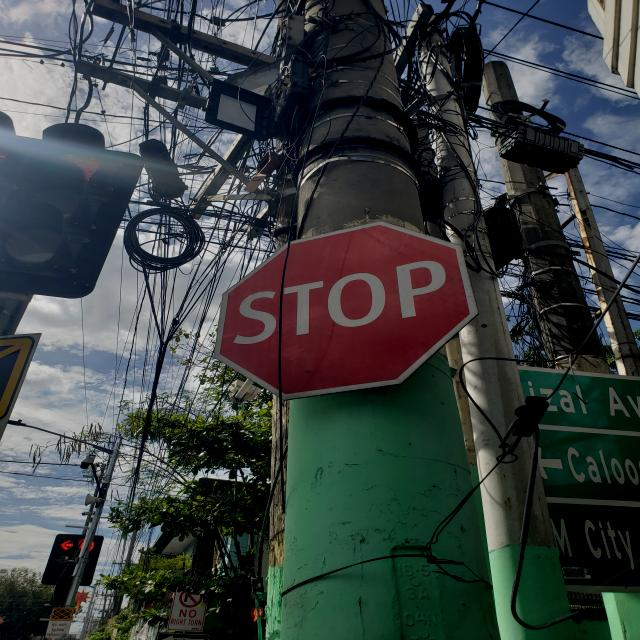stop-sign: (213, 220, 480, 401)
